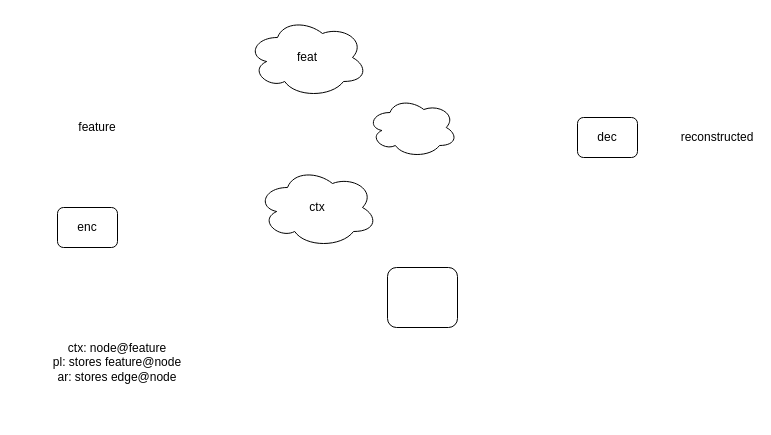
The diagram is 771 pixels wide and 435 high, and some of its shapes have lost their labels. Here are the shapes that lost their labels. From the top down, the centre of each, then its label:
point 412,127: ar
point 422,297: robot controller
